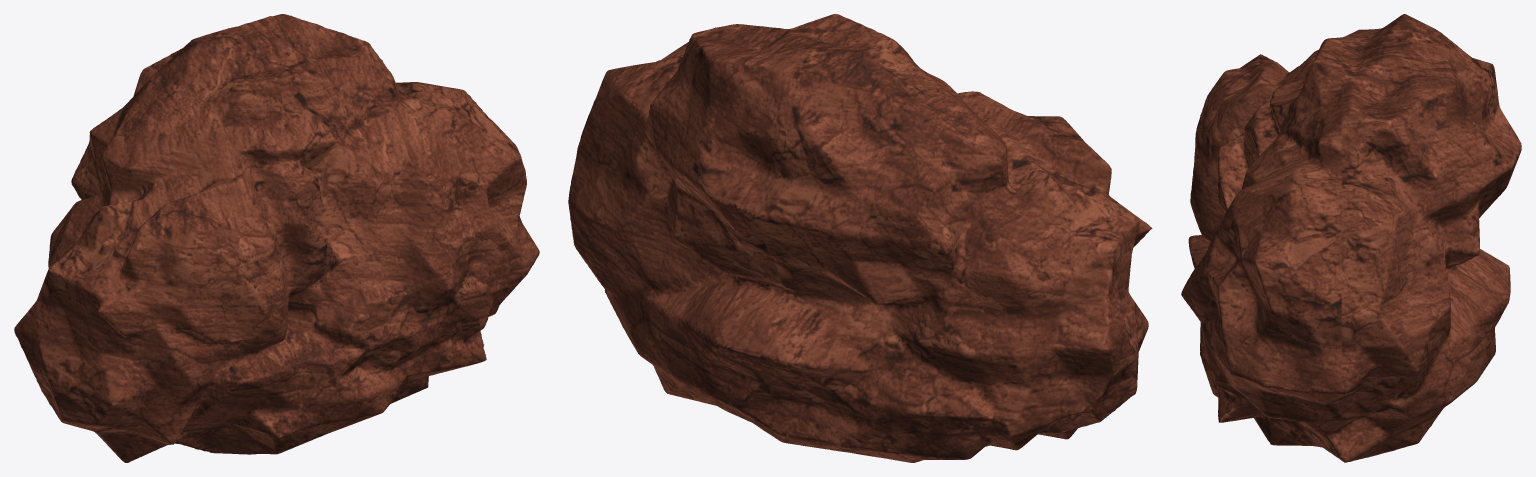
File: vau-red-outcrop-v01.glb
3 views of the same model, side by side, from view 1: azimuth 30°, elevation 25°; view 2: azimuth 150°, elevation 25°; view 3: azimuth 270°, elevation 25° (orthographic). The views are drawn at different scales.
Parts seen in each view (by area): view 1: Vau red sandstone outcrop v05 | continuous photo mesh; view 2: Vau red sandstone outcrop v05 | continuous photo mesh; view 3: Vau red sandstone outcrop v05 | continuous photo mesh.
Boxes of the visible parts, x1=… form: Vau red sandstone outcrop v05 | continuous photo mesh: x1=14, y1=14, x2=539, y2=462; Vau red sandstone outcrop v05 | continuous photo mesh: x1=568, y1=14, x2=1152, y2=462; Vau red sandstone outcrop v05 | continuous photo mesh: x1=1181, y1=14, x2=1521, y2=462.
Size of the model in its own units: 3.6 by 2.61 by 2.13.
Materials: 1 (1 with a texture image).
